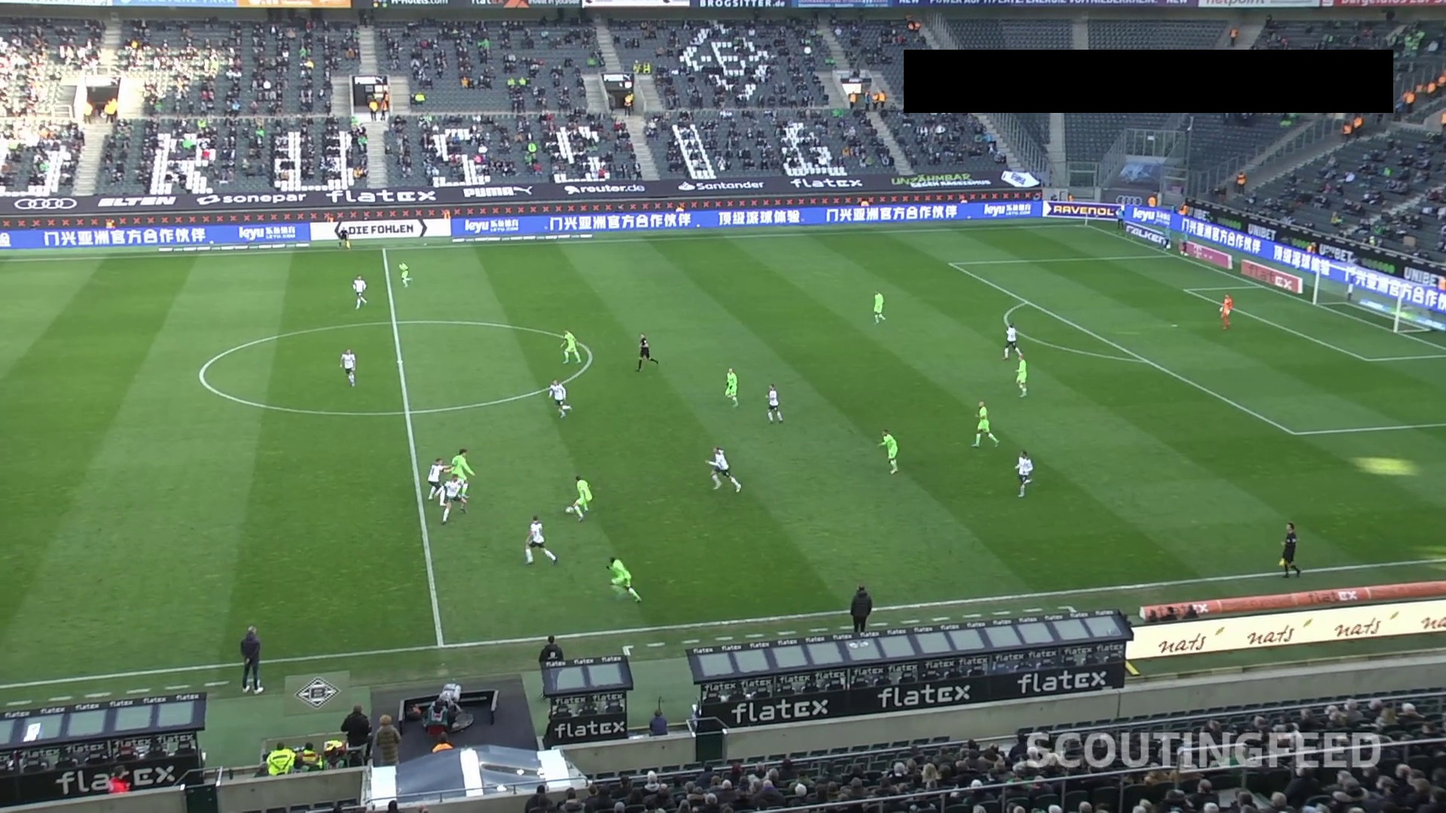goalkeeper: (1251, 243, 1280, 287)
player: (665, 290, 694, 334), (445, 362, 474, 406), (827, 399, 856, 443), (925, 497, 954, 541), (594, 304, 620, 343), (714, 304, 740, 343), (421, 434, 447, 473), (544, 494, 570, 533), (531, 427, 554, 464), (1099, 310, 1122, 347), (810, 598, 833, 635), (493, 560, 513, 594)
referee: (709, 359, 737, 402)
